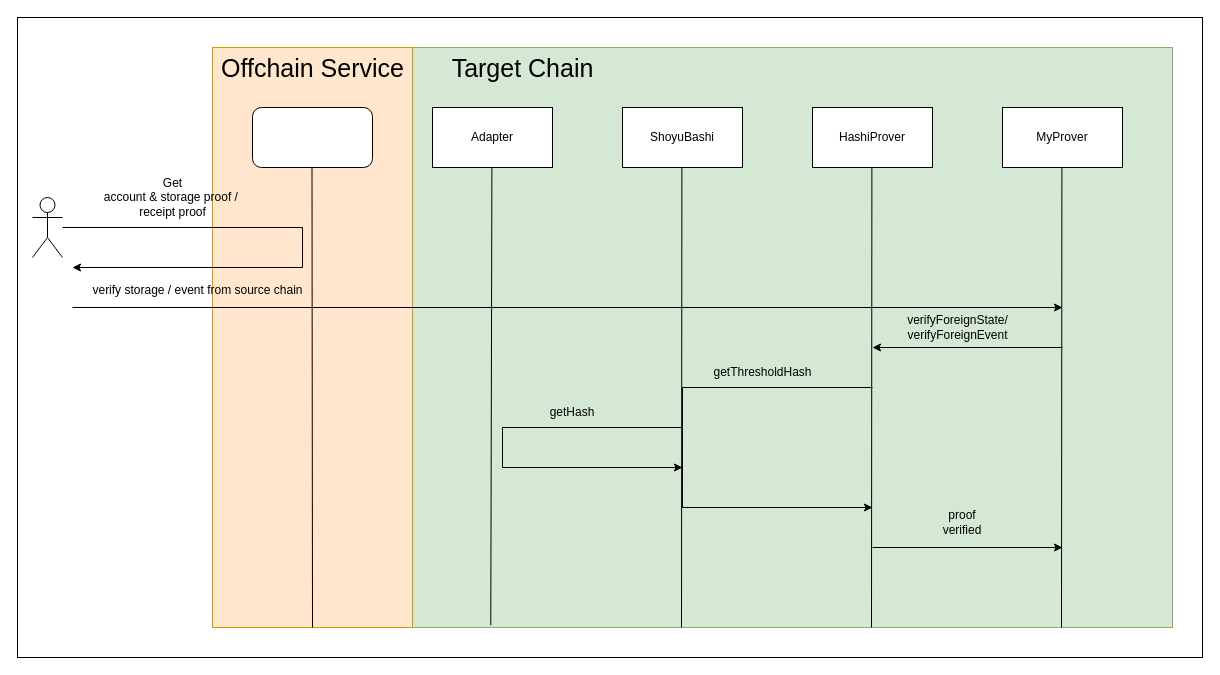
This 1220x675 diagram has some shape labels left out. The centre of each missing label's shape, as x and y in pixels:
"Hashi Prover Endpoint" belongs at pixel 312 137.
"You" belongs at pixel 47 227.
